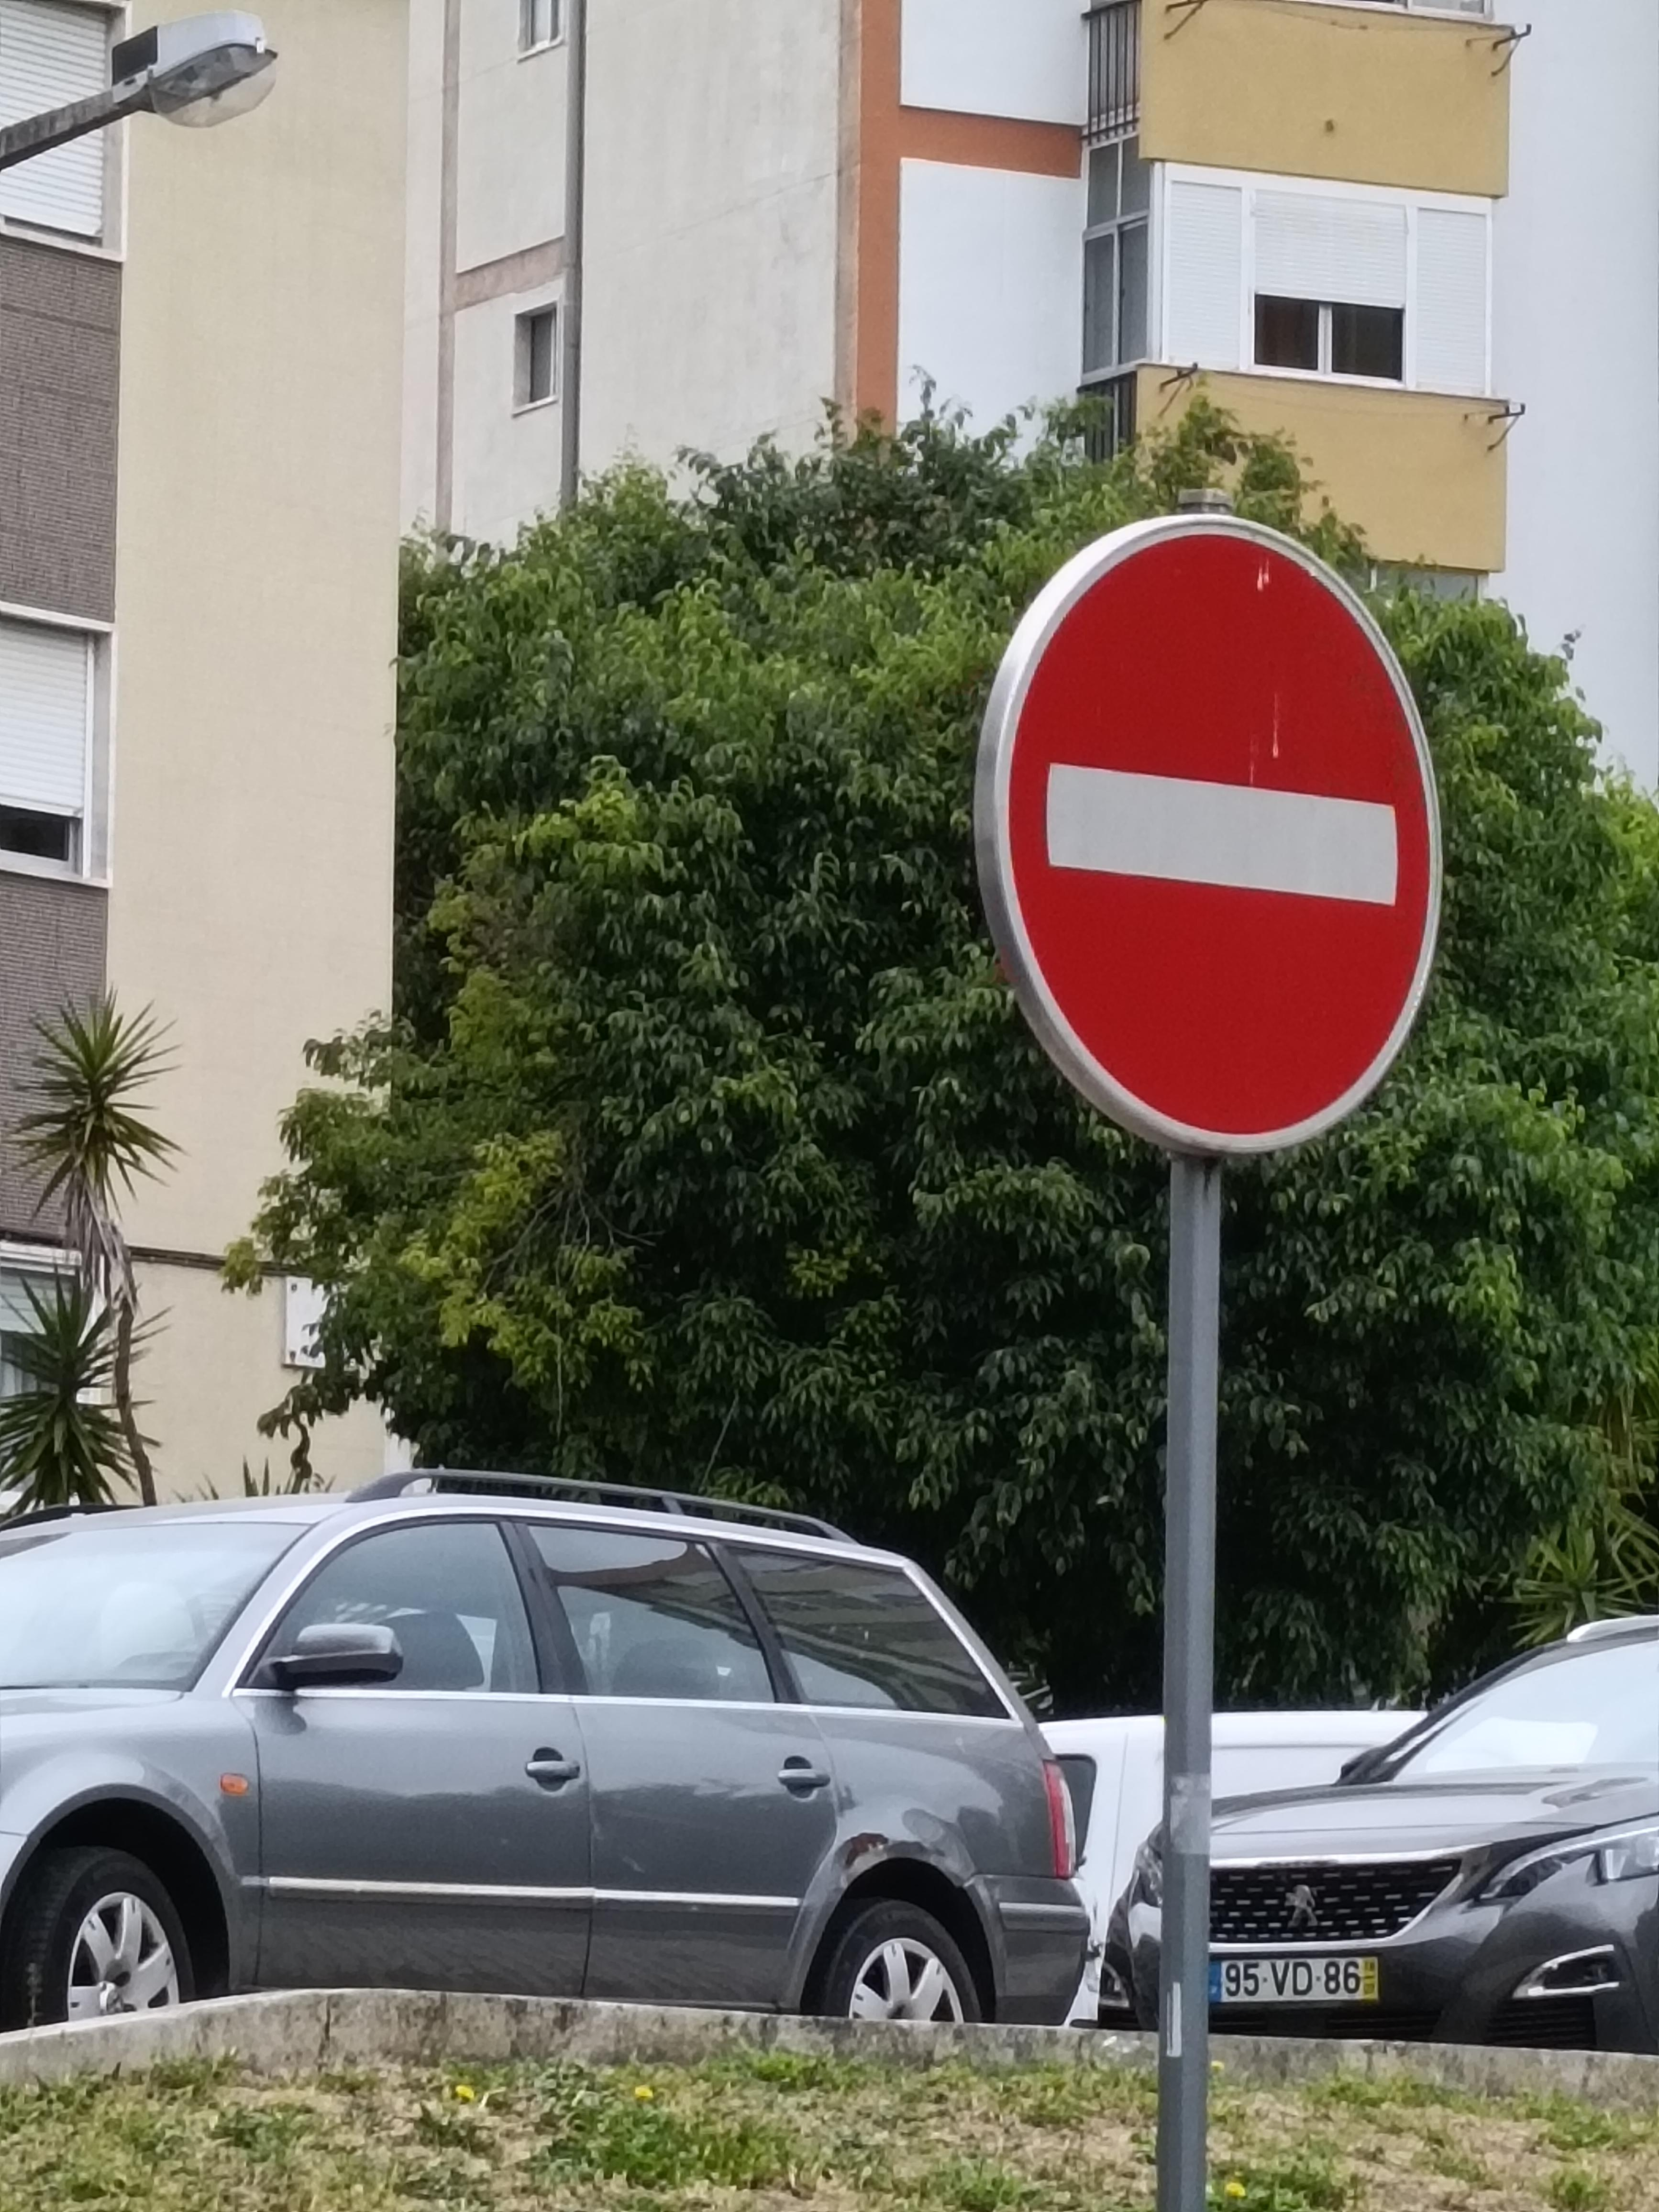Sentido proibido: (971, 449, 1464, 1148)
